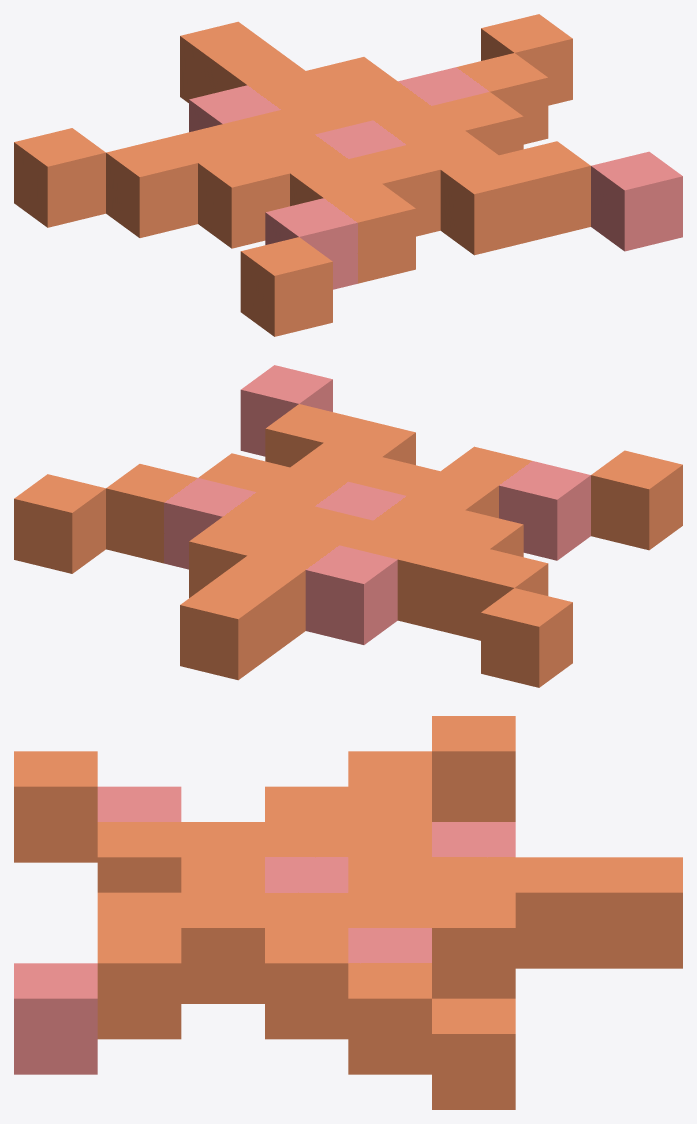
The model's file is Starfish.fbx.
3 views of the same model, one above another, from view 1: azimuth 30°, elevation 25°; view 2: azimuth 150°, elevation 25°; view 3: azimuth 270°, elevation 25° (orthographic). The views are drawn at different scales.
Parts seen in each view (by area): view 1: starfish; view 2: starfish; view 3: starfish.
Boxes of the visible parts, bbox=[...] form: starfish: bbox=[14, 14, 682, 336]; starfish: bbox=[14, 365, 682, 687]; starfish: bbox=[14, 716, 682, 1109].
Size of the model in its own units: 9 by 1 by 8.
